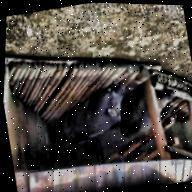boar: (42, 65, 151, 153), (110, 78, 182, 144)
